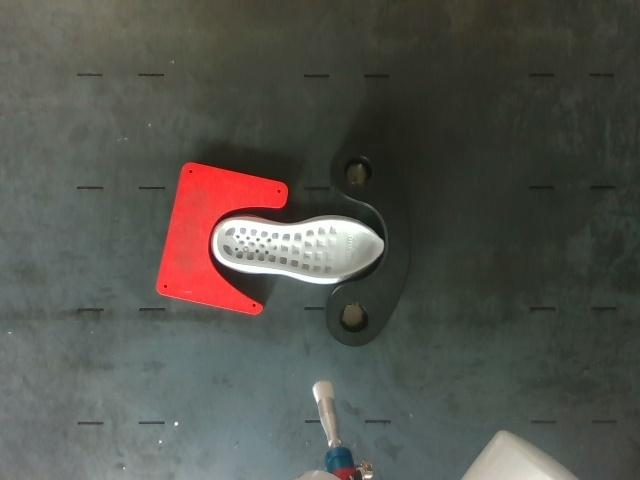shoes: (218, 220, 383, 278)
